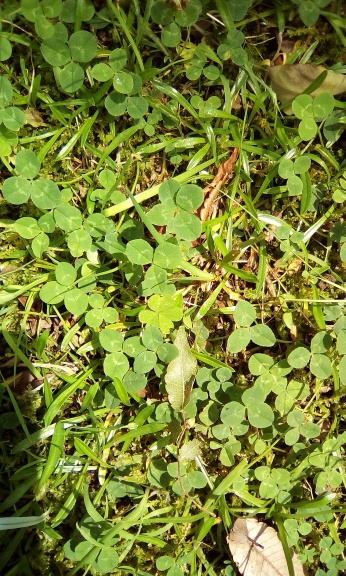4leaf: (148, 178, 204, 242)
